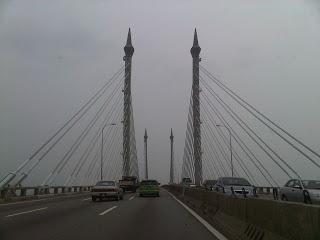backpack: (136, 179, 158, 197), (139, 179, 159, 187)
bench: (89, 179, 123, 201), (120, 175, 149, 195), (136, 179, 159, 196), (117, 174, 138, 192), (118, 182, 136, 192)
bicycle: (136, 179, 159, 197), (200, 179, 216, 191)
boat: (89, 179, 123, 201)
bus: (216, 178, 276, 197), (276, 178, 319, 203), (209, 176, 257, 194), (89, 179, 122, 201)
car: (209, 174, 306, 200), (216, 178, 276, 197), (275, 178, 319, 203), (260, 179, 307, 201), (210, 176, 254, 194), (233, 183, 281, 199), (89, 179, 123, 201), (214, 183, 253, 199), (106, 178, 136, 197), (128, 177, 155, 198), (272, 180, 295, 200), (201, 177, 232, 191), (302, 180, 319, 203), (137, 179, 159, 196), (249, 184, 276, 197), (117, 175, 137, 192), (230, 187, 248, 198), (200, 179, 216, 191), (301, 187, 310, 203), (306, 179, 319, 190), (141, 178, 160, 185), (236, 187, 248, 194)
chair: (136, 179, 159, 197), (118, 175, 137, 192)
couch: (118, 175, 137, 192)
dining table: (117, 175, 137, 192)
fire hydrant: (271, 186, 277, 200)
handbag: (136, 179, 159, 197)
motorcycle: (277, 177, 319, 202), (137, 179, 159, 196)
person: (277, 177, 319, 202), (136, 178, 159, 197), (300, 180, 315, 204), (232, 187, 249, 197), (238, 181, 248, 198), (266, 186, 278, 200), (270, 186, 281, 200), (301, 187, 310, 203), (239, 187, 248, 197), (243, 188, 251, 198), (241, 189, 249, 199), (271, 187, 277, 199), (254, 186, 260, 198), (280, 191, 287, 201), (252, 186, 257, 198), (251, 184, 256, 196), (229, 186, 234, 197)
potted plant: (117, 175, 137, 192)
refrigerator: (117, 175, 137, 192)
suitcase: (136, 179, 159, 197), (118, 175, 137, 192)
train: (211, 176, 263, 195), (88, 179, 121, 201)
truck: (209, 174, 320, 205), (209, 175, 282, 197), (244, 180, 297, 200), (275, 177, 317, 202), (105, 174, 137, 200), (210, 176, 253, 194), (89, 179, 123, 201), (236, 182, 278, 198), (120, 175, 149, 195), (136, 178, 159, 197), (302, 180, 319, 203), (92, 180, 119, 193), (117, 175, 137, 192), (253, 184, 276, 197)
tv: (136, 179, 158, 197)
umbrella: (136, 179, 159, 197)
